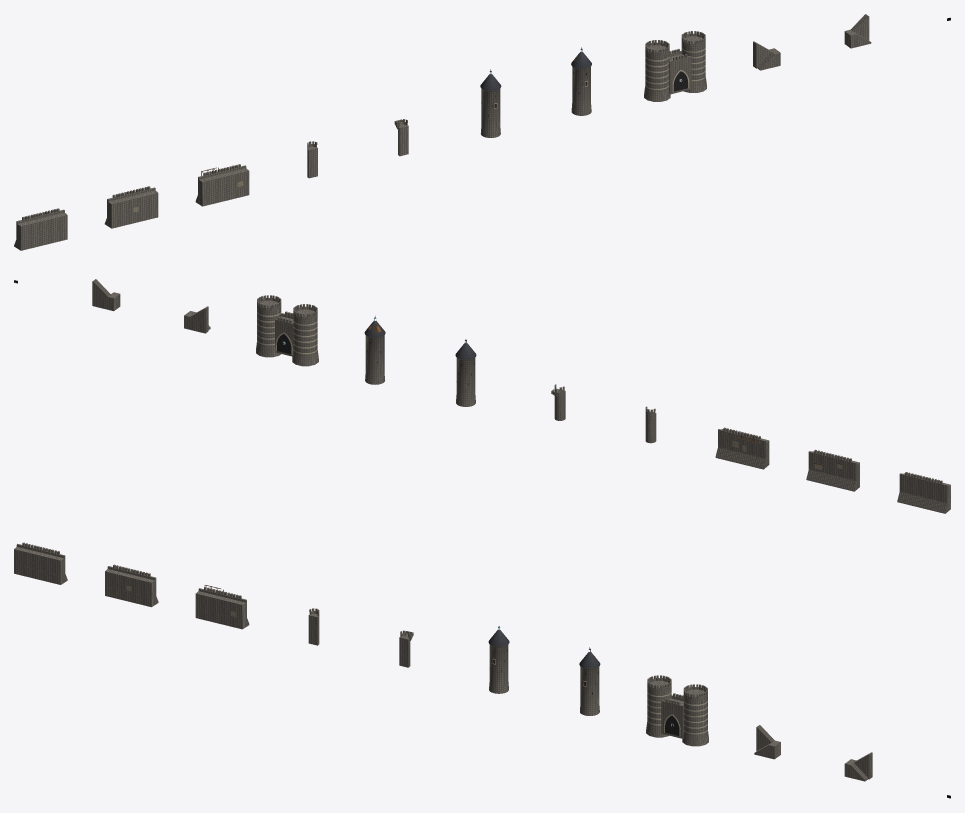
Rendered from concordia_wall_kit.glb.
3 renders of one model, top to bottom at view 1: azimuth 30°, elevation 25°; view 2: azimuth 150°, elevation 25°; view 3: azimuth 330°, elevation 25°, orthographic.
Visible parts, largest first — view 1: GATE_Sealed_Twin, WALL_Mod_C, WALL_Mod_B, WALL_Mod_A, TOWER_Guard_Roof, TOWER_Guard_Patched, STAIR_Gate_R, STAIR_Gate_L; view 2: GATE_Sealed_Twin, WALL_Mod_C, WALL_Mod_A, WALL_Mod_B, TOWER_Guard_Patched, TOWER_Guard_Roof, STAIR_Gate_R, STAIR_Gate_L; view 3: GATE_Sealed_Twin, WALL_Mod_C, WALL_Mod_A, WALL_Mod_B, TOWER_Guard_Patched, TOWER_Guard_Roof, STAIR_Gate_R, STAIR_Gate_L.
Part boxes in pixels (box(x1,y1,x2,y2)): GATE_Sealed_Twin: box(644, 31, 706, 101); WALL_Mod_C: box(195, 164, 249, 206); WALL_Mod_B: box(104, 186, 158, 228); WALL_Mod_A: box(14, 208, 67, 250); TOWER_Guard_Roof: box(480, 69, 501, 137); TOWER_Guard_Patched: box(571, 47, 591, 115); STAIR_Gate_R: box(844, 14, 871, 48); STAIR_Gate_L: box(753, 41, 780, 70); GATE_Sealed_Twin: box(256, 295, 318, 366); WALL_Mod_C: box(715, 427, 769, 469); WALL_Mod_A: box(897, 472, 950, 513); WALL_Mod_B: box(806, 449, 859, 491); TOWER_Guard_Patched: box(364, 316, 385, 384); TOWER_Guard_Roof: box(455, 339, 476, 406); STAIR_Gate_R: box(92, 279, 120, 311); STAIR_Gate_L: box(184, 306, 210, 333); GATE_Sealed_Twin: box(646, 675, 708, 746); WALL_Mod_C: box(195, 585, 249, 629); WALL_Mod_A: box(14, 542, 67, 584); WALL_Mod_B: box(105, 564, 158, 607); TOWER_Guard_Patched: box(579, 647, 600, 715); TOWER_Guard_Roof: box(488, 626, 509, 693); STAIR_Gate_R: box(844, 752, 872, 781); STAIR_Gate_L: box(754, 725, 780, 759).
Size of what is drawn, in the model's own units: 514 by 34.08 by 14.38.
Materials: 10 (7 with a texture image).
